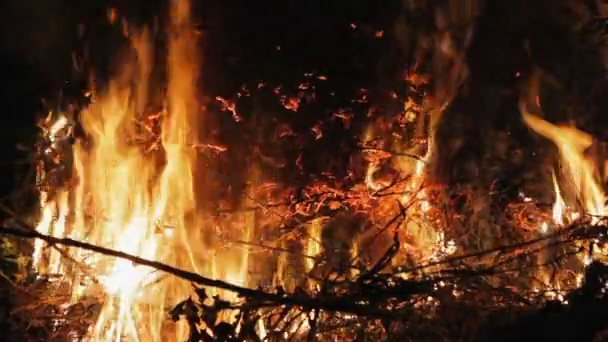fire: (27, 1, 252, 341), (361, 105, 457, 265), (522, 107, 608, 227), (531, 238, 608, 301), (281, 307, 314, 338), (301, 220, 320, 273), (256, 316, 265, 340)
